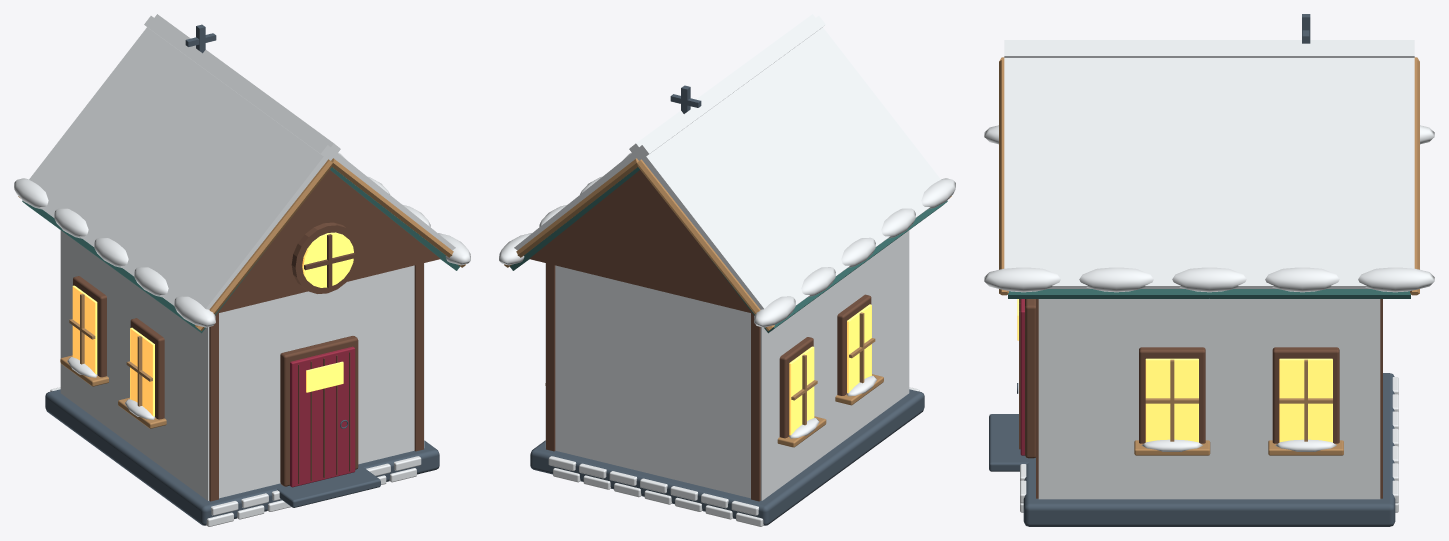
The model's file is alpine-snow-village-snowfall-mountain-chapel-7c849ec5__19782.glb.
The picture shows the model from 3 angles, left to right: view 1: azimuth 30°, elevation 25°; view 2: azimuth 150°, elevation 25°; view 3: azimuth 270°, elevation 25°; orthographic projection. The views are drawn at different scales.
Parts seen in each view (by area): view 1: snowfall-mountain-chapel-snow, snowfall-mountain-chapel-wood, snowfall-mountain-chapel-iron, snowfall-mountain-chapel-berry, snowfall-mountain-chapel-amber, snowfall-mountain-chapel-oak, snowfall-mountain-chapel-pine; view 2: snowfall-mountain-chapel-snow, snowfall-mountain-chapel-wood, snowfall-mountain-chapel-iron, snowfall-mountain-chapel-oak, snowfall-mountain-chapel-amber, snowfall-mountain-chapel-pine; view 3: snowfall-mountain-chapel-snow, snowfall-mountain-chapel-iron, snowfall-mountain-chapel-amber, snowfall-mountain-chapel-wood, snowfall-mountain-chapel-oak, snowfall-mountain-chapel-pine, snowfall-mountain-chapel-berry.
Part boxes in pixels (x1,y1,x2,y2): snowfall-mountain-chapel-snow: (14, 14, 470, 526); snowfall-mountain-chapel-wood: (73, 170, 440, 501); snowfall-mountain-chapel-iron: (45, 24, 439, 525); snowfall-mountain-chapel-berry: (290, 346, 355, 487); snowfall-mountain-chapel-amber: (72, 232, 353, 416); snowfall-mountain-chapel-oak: (18, 158, 465, 428); snowfall-mountain-chapel-pine: (22, 167, 459, 333); snowfall-mountain-chapel-snow: (499, 14, 955, 526); snowfall-mountain-chapel-wood: (529, 170, 871, 501); snowfall-mountain-chapel-iron: (530, 85, 924, 525); snowfall-mountain-chapel-oak: (504, 158, 951, 447); snowfall-mountain-chapel-amber: (789, 304, 871, 435); snowfall-mountain-chapel-pine: (510, 167, 947, 333); snowfall-mountain-chapel-snow: (984, 40, 1434, 512); snowfall-mountain-chapel-iron: (989, 14, 1395, 526); snowfall-mountain-chapel-amber: (1017, 299, 1332, 442); snowfall-mountain-chapel-wood: (1019, 299, 1382, 498); snowfall-mountain-chapel-oak: (999, 57, 1419, 455); snowfall-mountain-chapel-pine: (1008, 289, 1410, 298); snowfall-mountain-chapel-berry: (1020, 299, 1024, 455).
Bounding box in the file's own units: 5.06 × 6.62 × 6.06.
